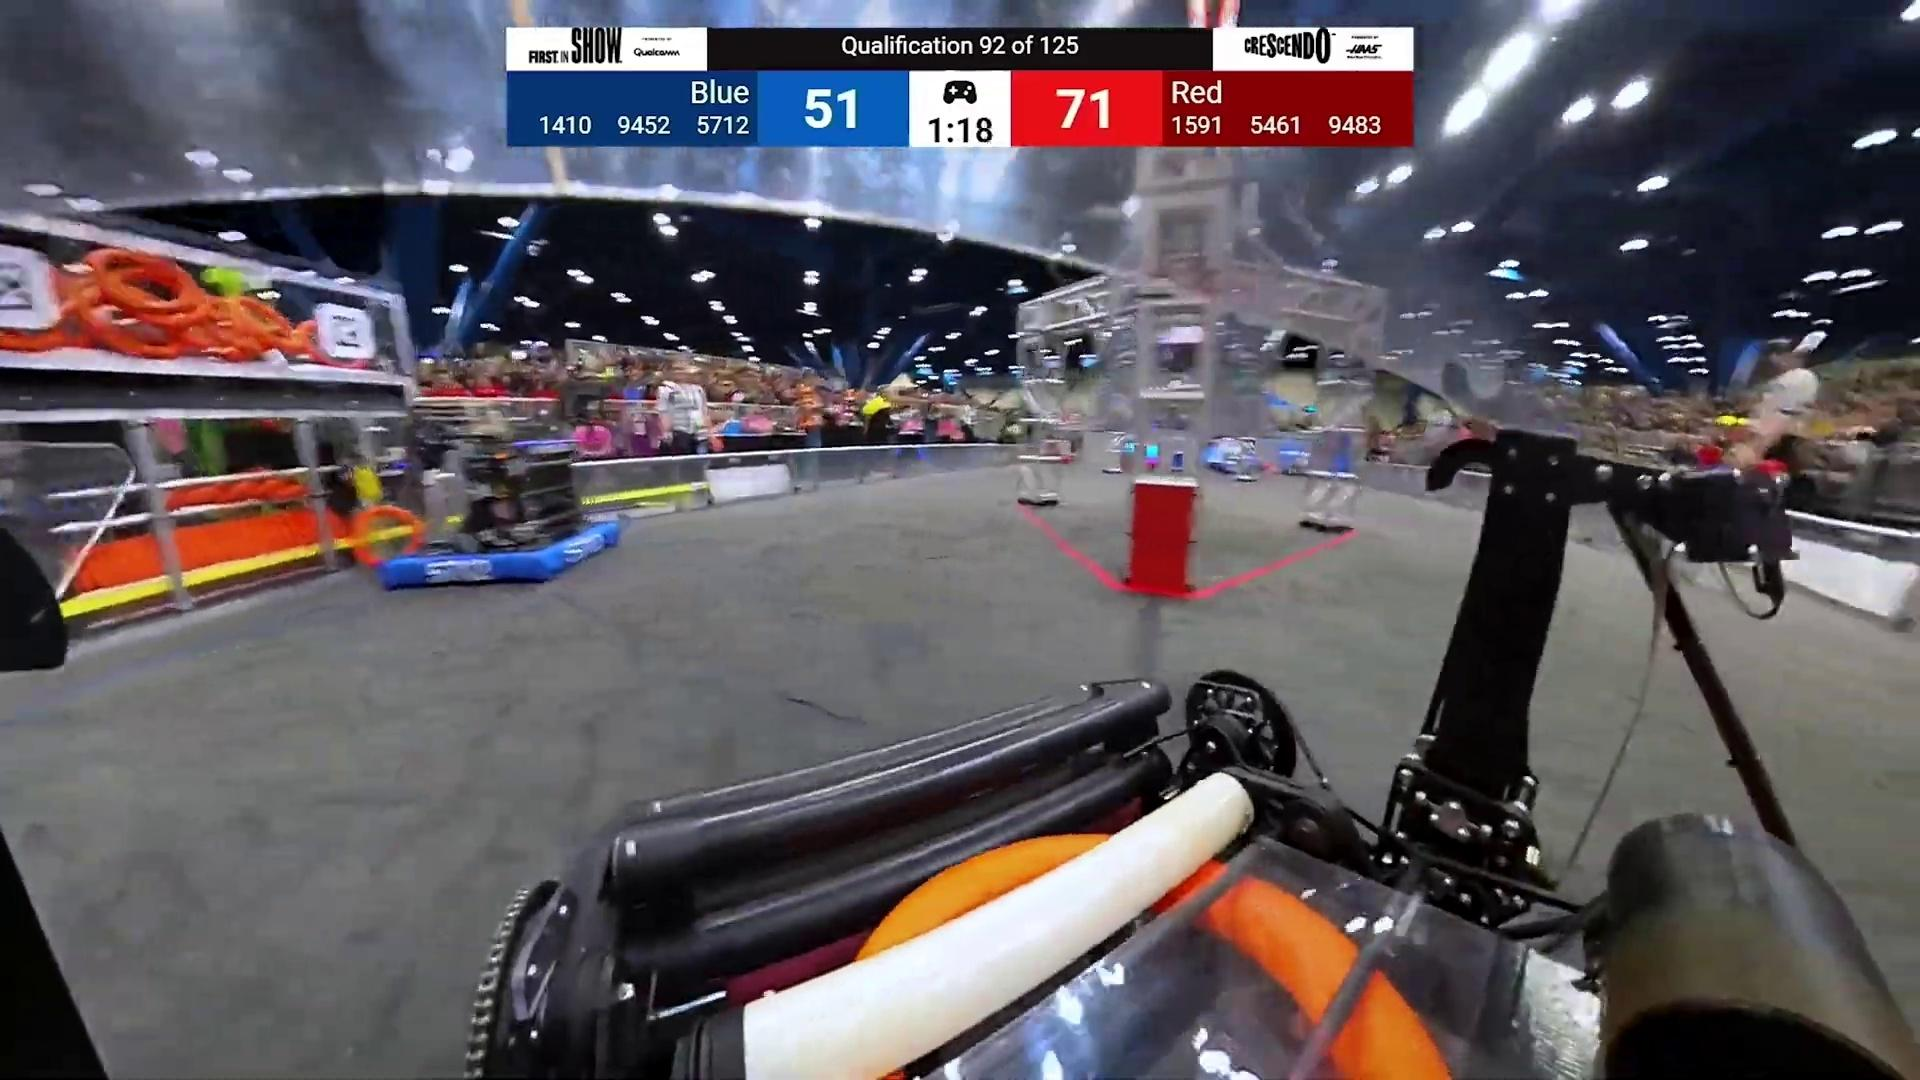robot: (378, 444, 620, 589), (1208, 452, 1261, 473), (1039, 439, 1073, 464)
